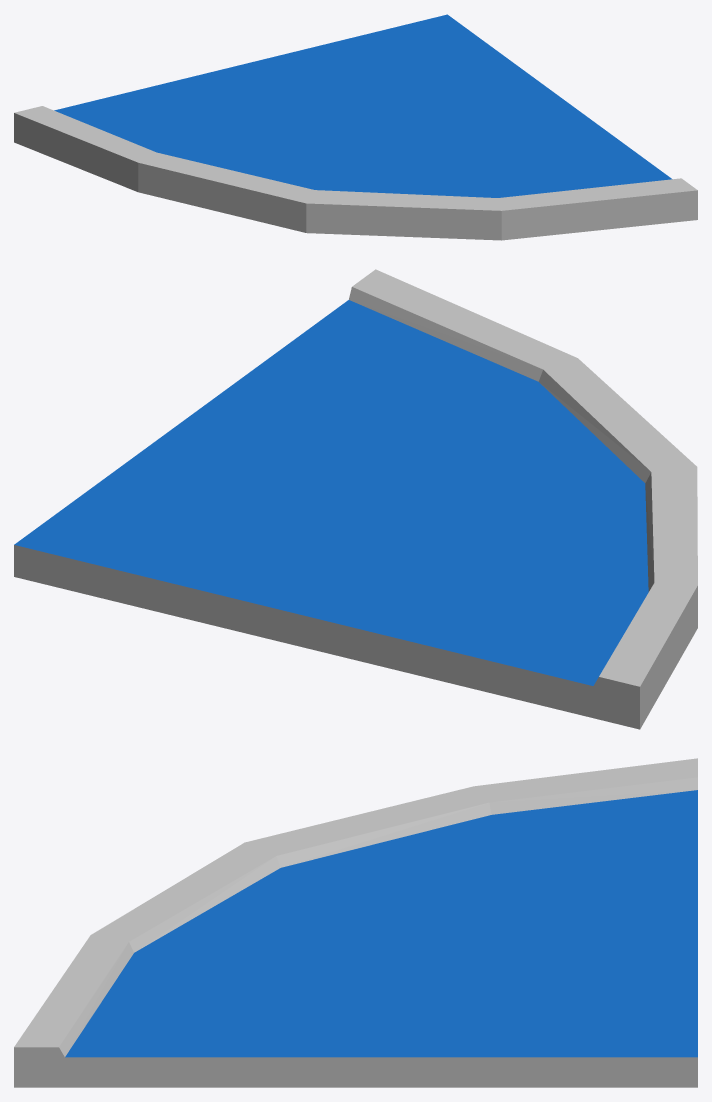
Rendered from SM_sidewalk_1.fbx.
3 views of the same model, one above another, from view 1: azimuth 30°, elevation 25°; view 2: azimuth 150°, elevation 25°; view 3: azimuth 270°, elevation 25° (orthographic). The views are drawn at different scales.
Parts seen in each view (by area): view 1: Cube_29; view 2: Cube_29; view 3: Cube_29.
Boxes of the visible parts, x1,y1,x2,y2 form: Cube_29: (14,14,697,240); Cube_29: (14,269,697,729); Cube_29: (14,758,697,1087).
Bounding box in the file's own units: 240 × 15.7 × 241.
